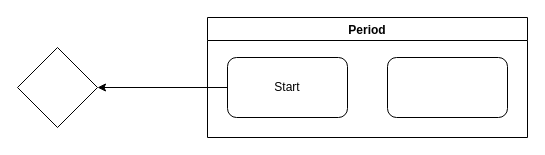
Image size: 545x155. Some labels were removed from this diagram. Each missing label, with the box of its shape:
Base: (16, 46, 98, 128)
End: (386, 56, 508, 118)
